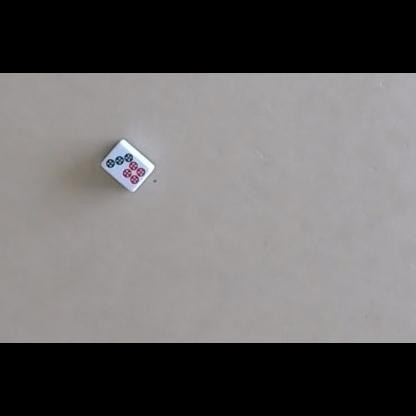7p: (106, 153, 145, 185)
